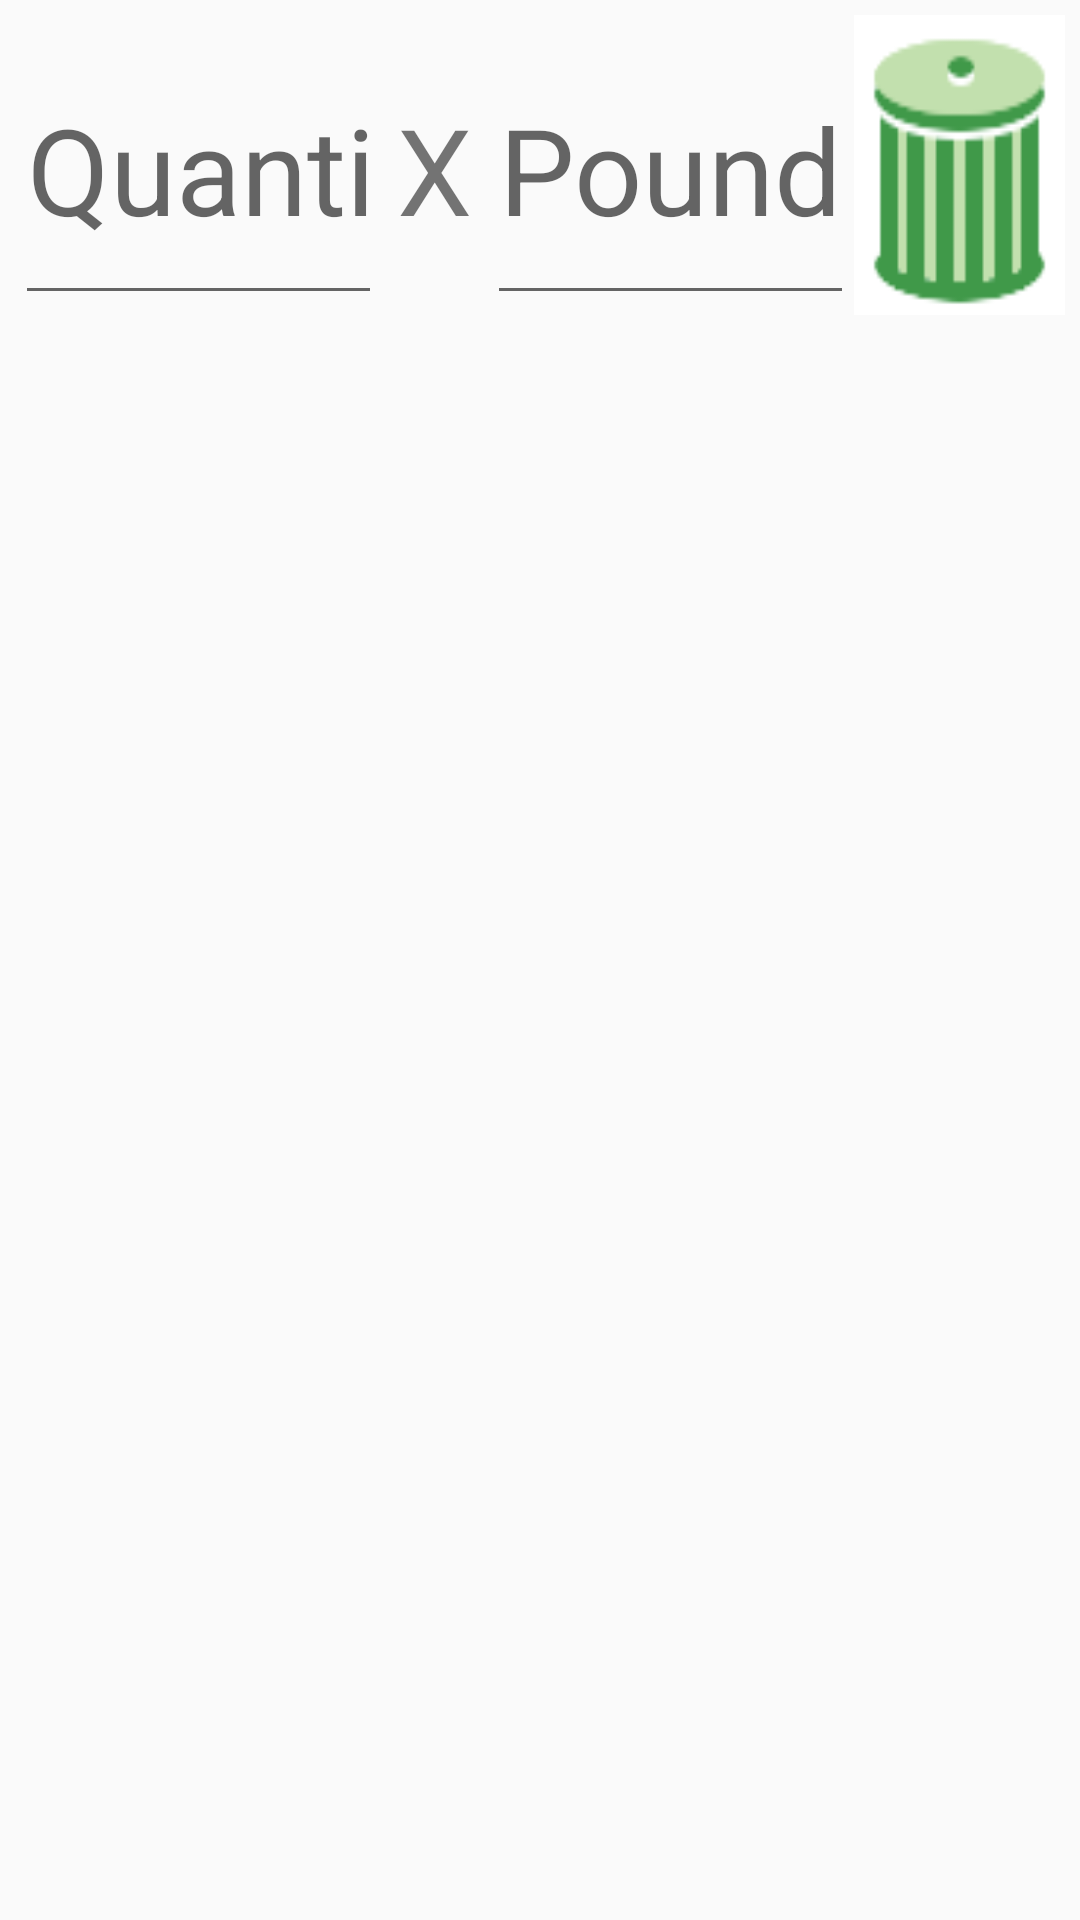

Icons on this 1080px x 1920px Android screen, each with its box as (x1, y1, x2, y2):
Delete: (873, 39, 1046, 304)
